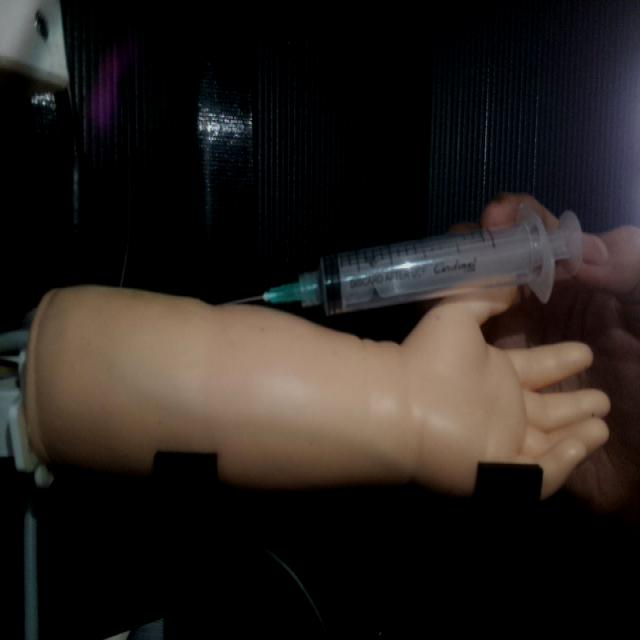Below 15 degrees: (230, 200, 585, 319)
